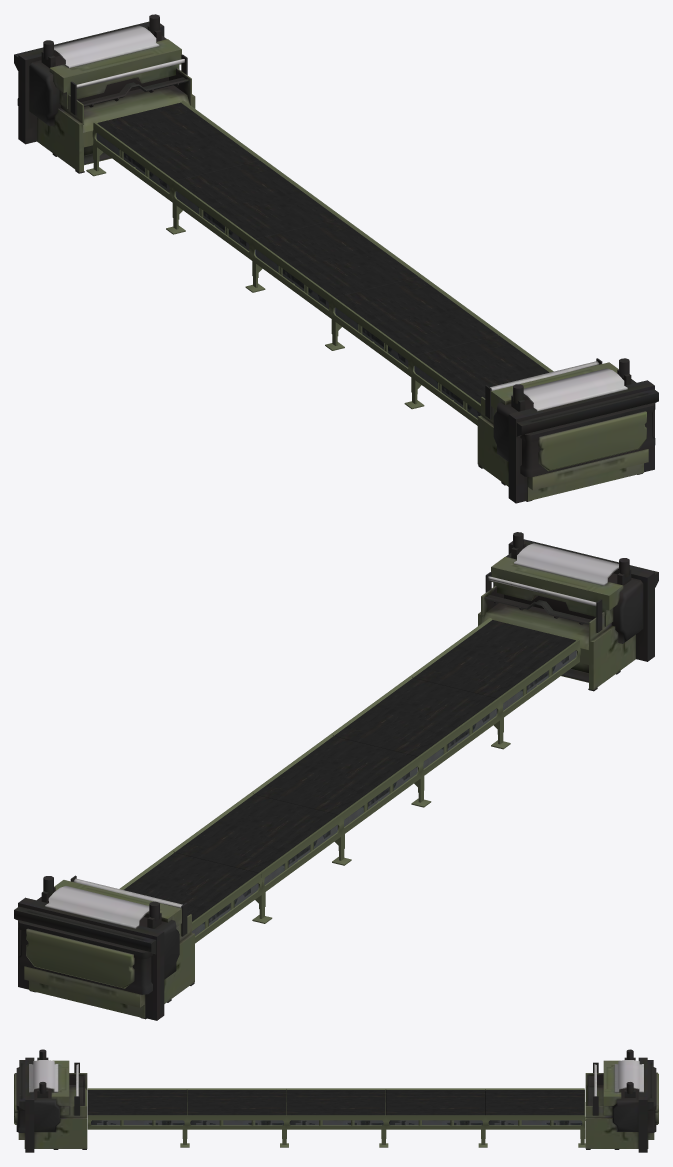
File: SM_WorkBenchElectric_851844.glb
The picture shows the model from 3 angles, top to bottom: view 1: azimuth 30°, elevation 25°; view 2: azimuth 150°, elevation 25°; view 3: azimuth 270°, elevation 25°; orthographic projection. The views are drawn at different scales.
Size of the model in its own units: 2.27 by 1.63 by 14.6.
Materials: 3 (3 with a texture image).
